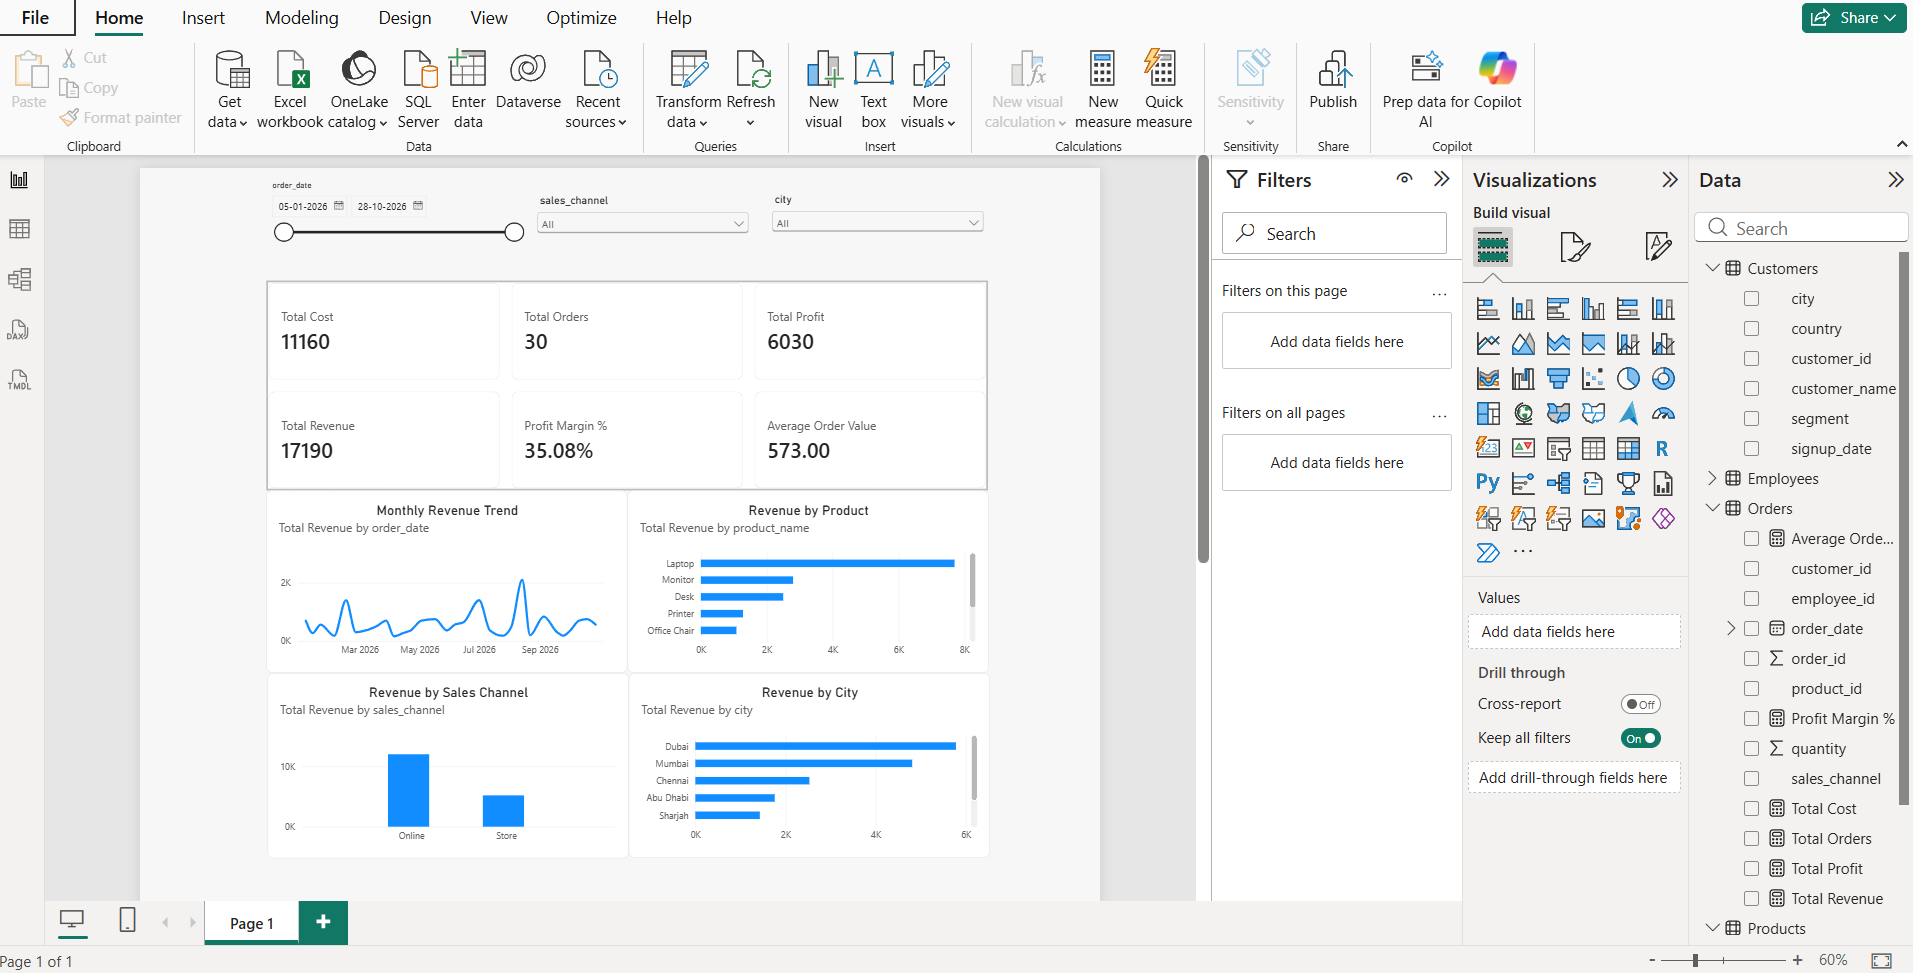

What the dashboard file says about the page in this screenshot:
{"tool":"powerbi","page":{"name":"Page 1","canvas":[1280,1800],"ordinal":0},"visuals":[{"type":"cardVisual","fields":{"Data":["Orders.Total Cost","Orders.Total Orders","Orders.Total Profit","Orders.Total Revenue","Orders.Profit Margin %","Orders.Average Order Value"]},"box":[168.6,150,962.2,280],"z":0},{"type":"lineChart","title":"Monthly Revenue Trend","fields":{"Category":["Orders.order_date"],"Y":["Orders.Total Revenue"]},"box":[168.6,430,481.4,242.9],"z":1000},{"type":"clusteredBarChart","title":"Revenue by Product","fields":{"Category":["Products.product_name"],"Y":["Orders.Total Revenue"]},"box":[650,430,481.4,242.9],"z":1001},{"type":"clusteredColumnChart","title":"Revenue by Sales Channel","fields":{"Category":["Orders.sales_channel"],"Y":["Orders.Total Revenue"]},"box":[170,672.9,481.4,247.1],"z":1002},{"type":"clusteredBarChart","title":"Revenue by City","fields":{"Category":["Customers.city"],"Y":["Orders.Total Revenue"]},"box":[651.7,673.3,481.7,246.7],"z":1003},{"type":"slicer","fields":{"Values":["Orders.order_date"]},"box":[168.6,17.1,346.7,95.6],"z":1004},{"type":"slicer","fields":{"Values":["Orders.sales_channel"]},"box":[525.7,35.7,291.7,93.3],"z":1005},{"type":"slicer","fields":{"Values":["Customers.city"]},"box":[838.6,32.9,291.7,95],"z":1006}]}

Visuals, with their boxes on the page's 1280x1800 design canvas (x1, y1, x2, y2). These are canvas units, not pixel positions in the 1913x973 screenshot, which may show the page scaled, cropped or inside an application window:
cardVisual - Orders.Total Cost x Orders.Total Orders: l=169, t=150, r=1131, b=430
"Monthly Revenue Trend" lineChart: l=169, t=430, r=650, b=673
"Revenue by Product" clusteredBarChart: l=650, t=430, r=1131, b=673
"Revenue by Sales Channel" clusteredColumnChart: l=170, t=673, r=651, b=920
"Revenue by City" clusteredBarChart: l=652, t=673, r=1133, b=920
slicer - Orders.order_date: l=169, t=17, r=515, b=113
slicer - Orders.sales_channel: l=526, t=36, r=817, b=129
slicer - Customers.city: l=839, t=33, r=1130, b=128
